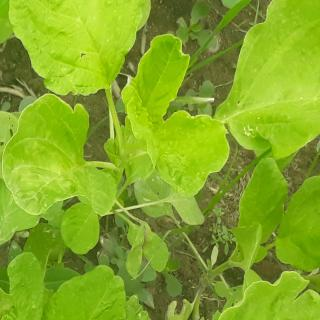virus_keriting: (154, 108, 230, 198)
